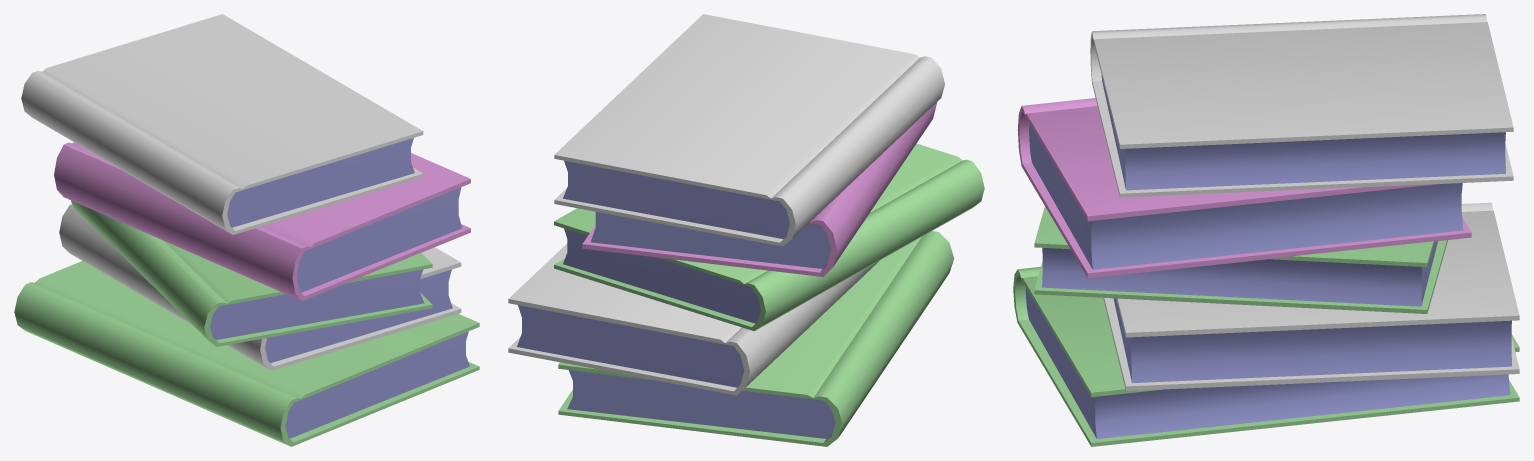
The model's file is SSYXING04.FBX.
3 renders of one model, left to right at view 1: azimuth 30°, elevation 25°; view 2: azimuth 150°, elevation 25°; view 3: azimuth 270°, elevation 25°, orthographic. The views are drawn at different scales.
Parts seen in each view (by area): view 1: SSYXING04; view 2: SSYXING04; view 3: SSYXING04.
Boxes of the visible parts, bbox=[...] form: SSYXING04: bbox=[14, 14, 479, 446]; SSYXING04: bbox=[508, 14, 984, 446]; SSYXING04: bbox=[1013, 14, 1519, 446].
Bounding box in the file's own units: 62.91 × 46.03 × 76.15.
